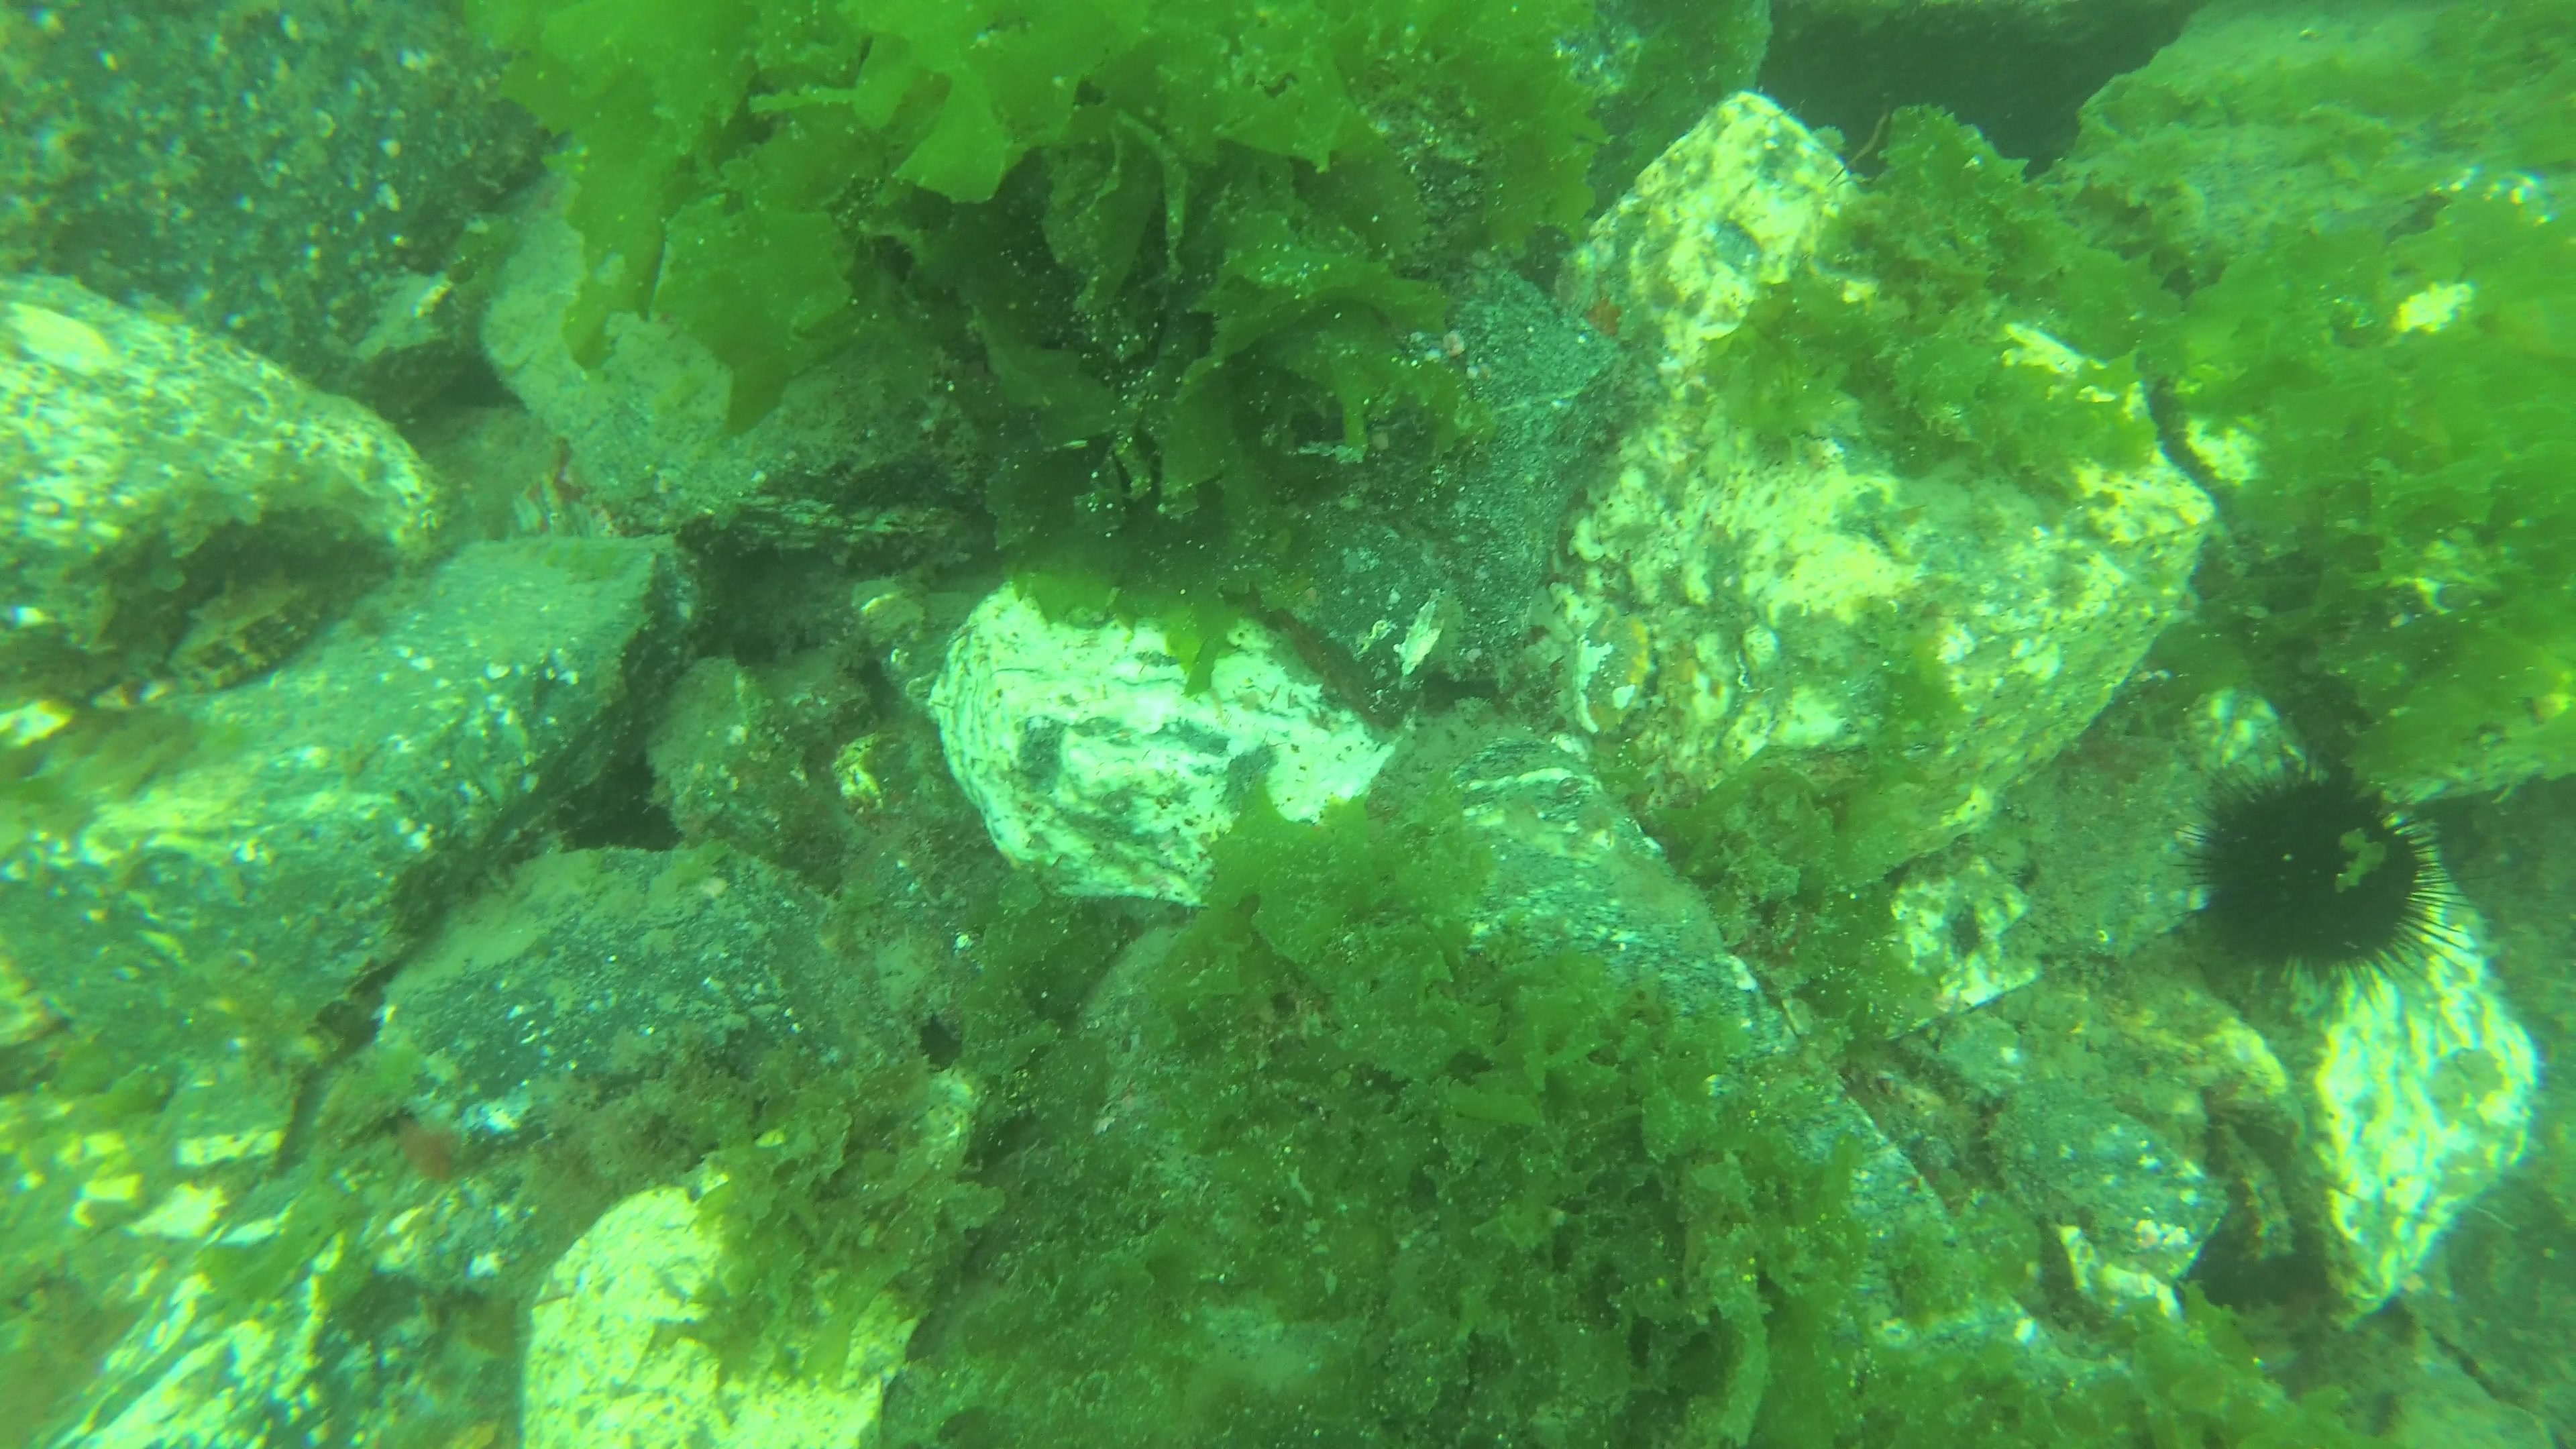echinus: (2185, 748, 2475, 1005)
